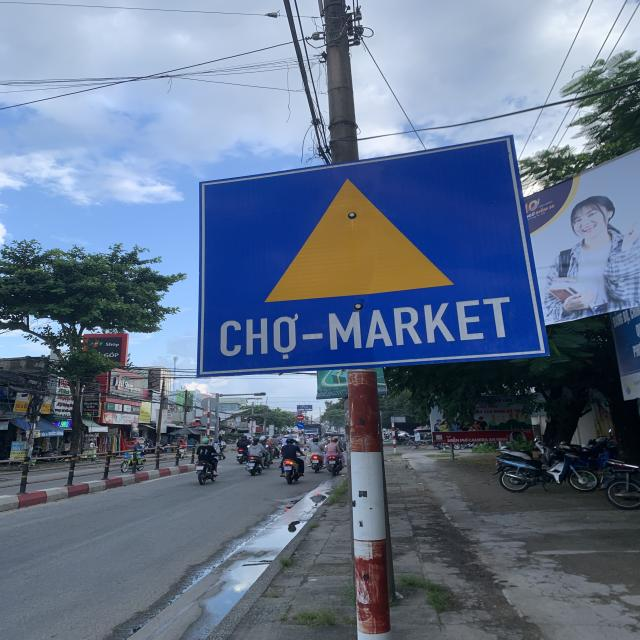Cho_Quay_Xe: (200, 132, 550, 377)
